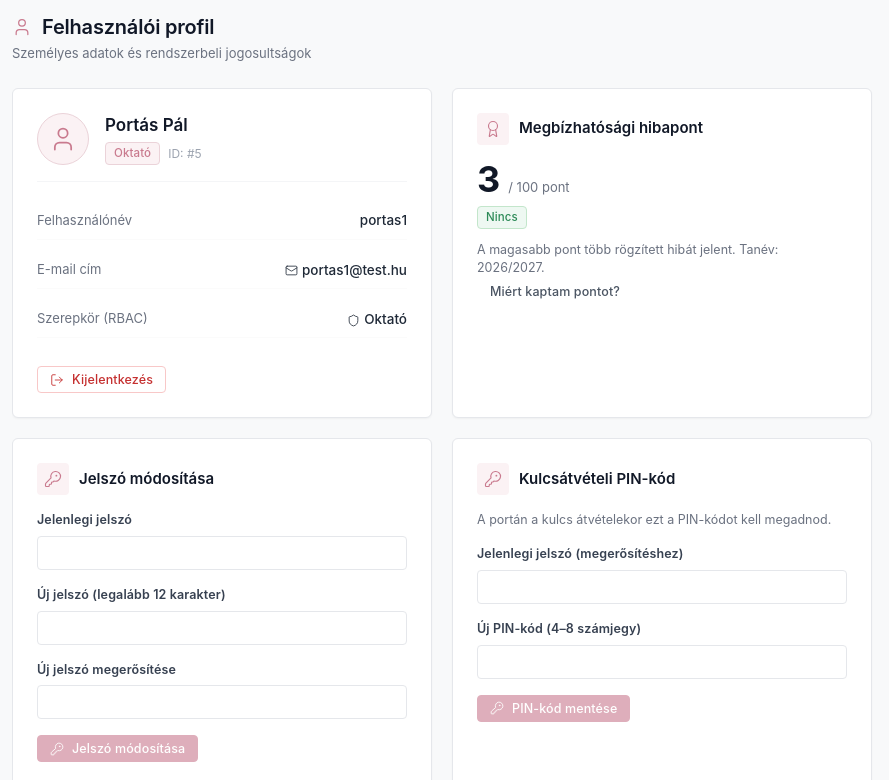
Test: ProfilePage password change › shows the reasons of the own reliability points on request
Click the button "Miért kaptam pontot?" at (555, 291), box [477,278,633,304]
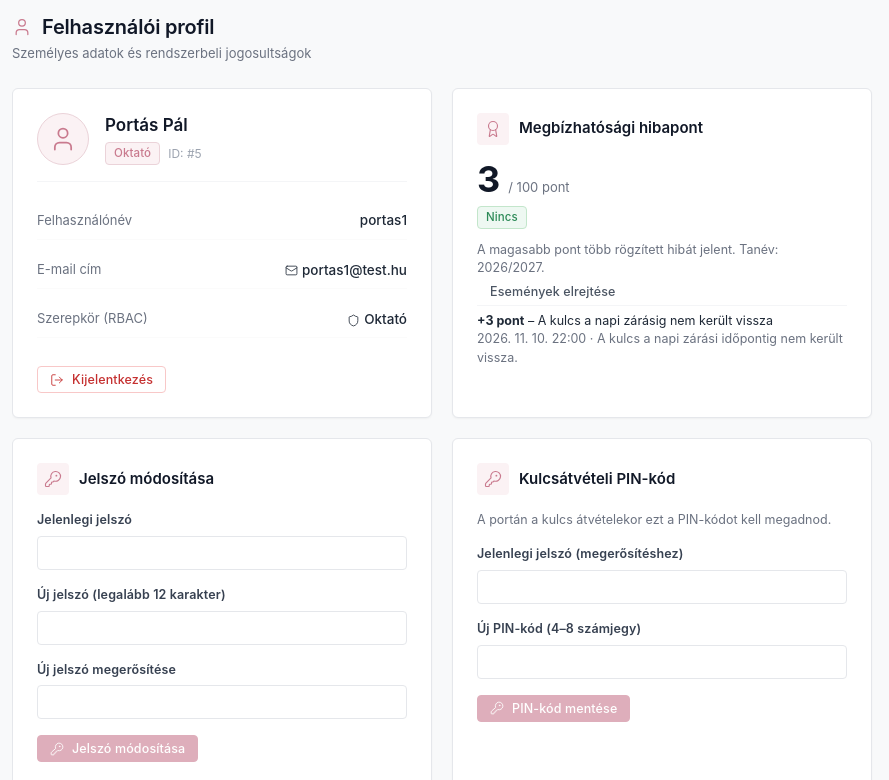
Check: the list named "Megbízhatósági eseményeim" shows "+3 pont", box [477,304,847,368]
Check: the list named "Megbízhatósági eseményeim" shows "A kulcs a napi zárásig nem került vissza", box [538,312,773,328]
